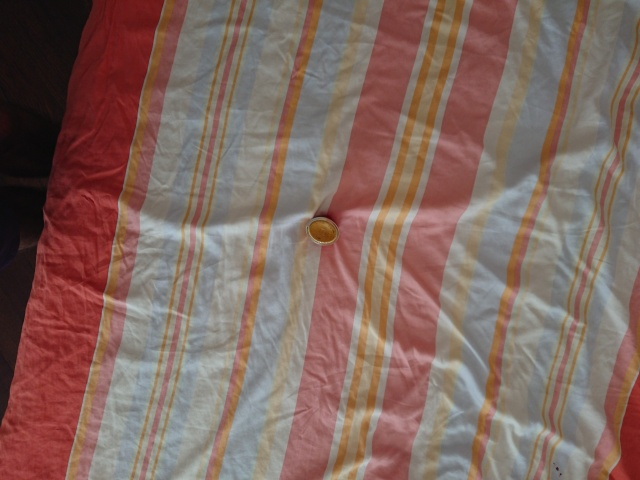Kotanyi Curry Spices Mix 70g: (304, 214, 342, 247)
